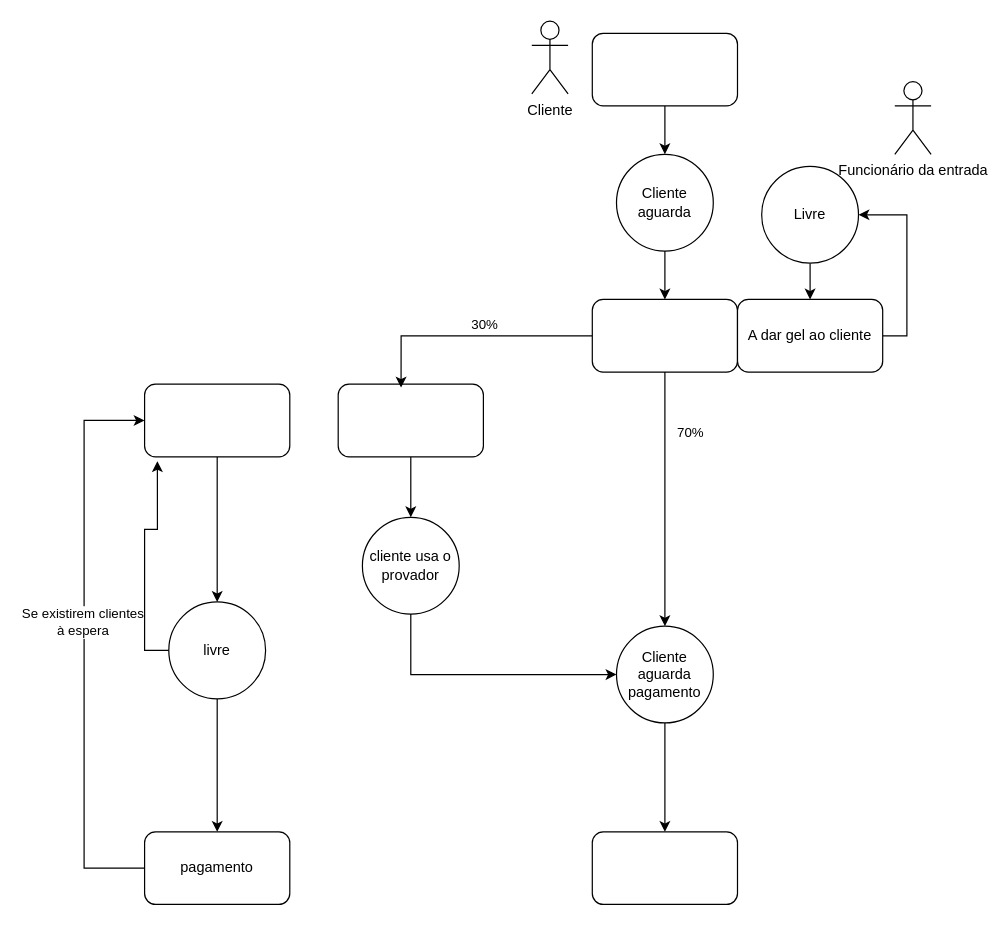
Some shapes in this 1008 by 926 pixel diagram are drawn without their labels. Here are the shapes that lost their labels. From the top down, the centre of each, then its label:
At point (664, 69): "Cliente chega".
At point (664, 335): "Cliente higieniza as mãos".
At point (216, 420): "Fazer a higienização do provador".
At point (410, 420): "Cliente aguarda provador".
At point (664, 867): "Cliente paga".
